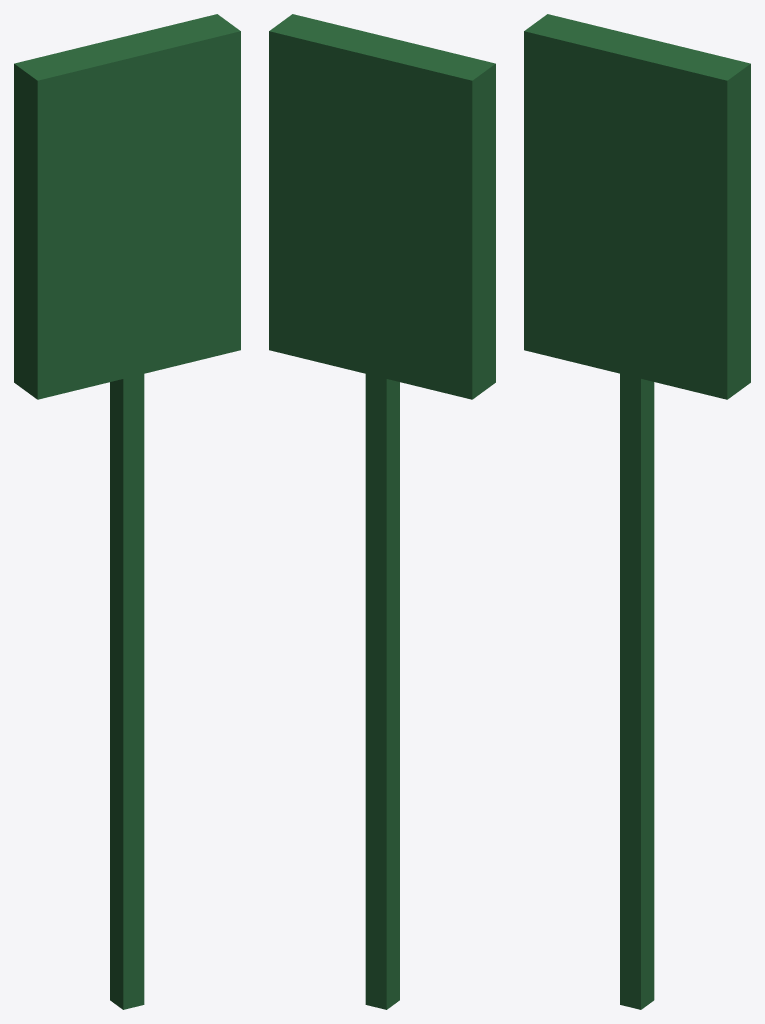
The model's file is 16 Signboard.FBX.
The picture shows the model from 3 angles, left to right: view 1: azimuth 30°, elevation 25°; view 2: azimuth 150°, elevation 25°; view 3: azimuth 330°, elevation 25°; orthographic projection.
Visible parts, largest first — view 1: Signboard; view 2: Signboard; view 3: Signboard.
Part boxes in pixels (left/top/right/bottom): Signboard: left=14, top=14, right=240, bottom=1009; Signboard: left=269, top=14, right=495, bottom=1009; Signboard: left=524, top=14, right=750, bottom=1009.
Bounding box in the file's own units: 221 × 991 × 44.13.
